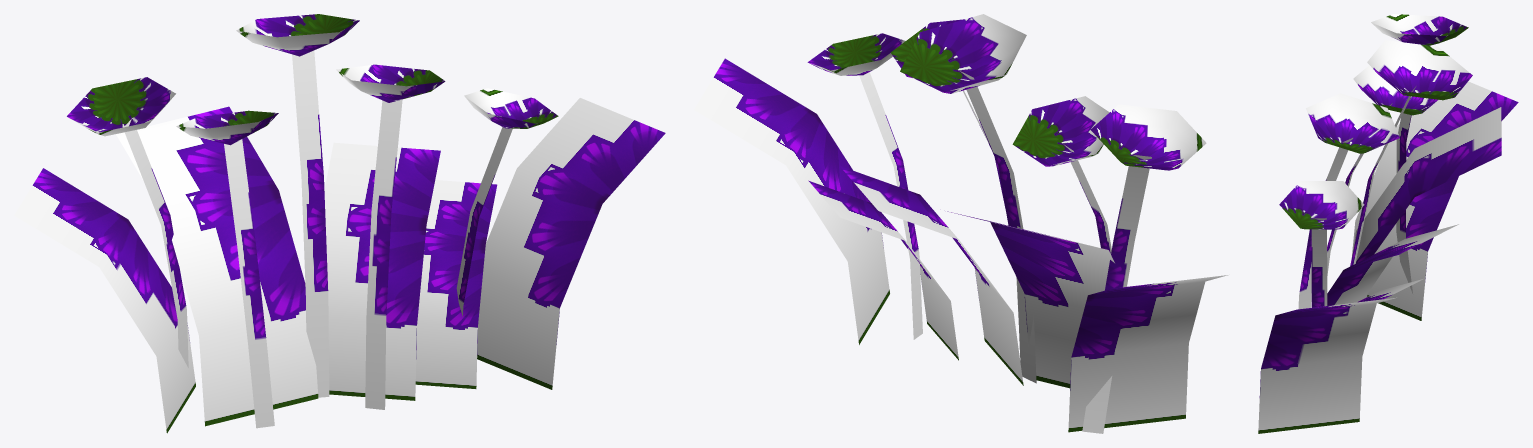
The model's file is Flower_15b.FBX.
3 views of the same model, side by side, from view 1: azimuth 30°, elevation 25°; view 2: azimuth 150°, elevation 25°; view 3: azimuth 270°, elevation 25° (orthographic). The views are drawn at different scales.
Parts seen in each view (by area): view 1: Flower_15b; view 2: Flower_15b; view 3: Flower_15b.
Boxes of the visible parts, x1,y1,x2,y2 form: Flower_15b: (14,14,665,433); Flower_15b: (694,14,1228,433); Flower_15b: (1258,14,1518,433).
Bounding box in the file's own units: 39.14 × 23.17 × 17.73.
